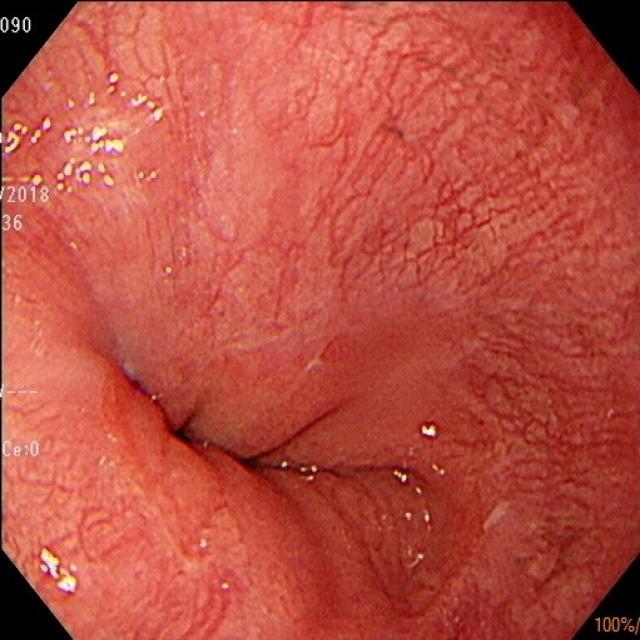A: (523, 506, 600, 598)
I: (79, 277, 470, 590)
S: (3, 185, 53, 206), (594, 615, 640, 635), (2, 383, 41, 403), (4, 441, 41, 461), (2, 206, 25, 235), (2, 15, 34, 35)
U: (55, 157, 116, 193), (40, 547, 80, 598), (64, 126, 126, 157), (5, 117, 54, 155), (130, 92, 166, 123), (2, 173, 45, 186), (105, 73, 121, 96), (422, 423, 439, 439)
